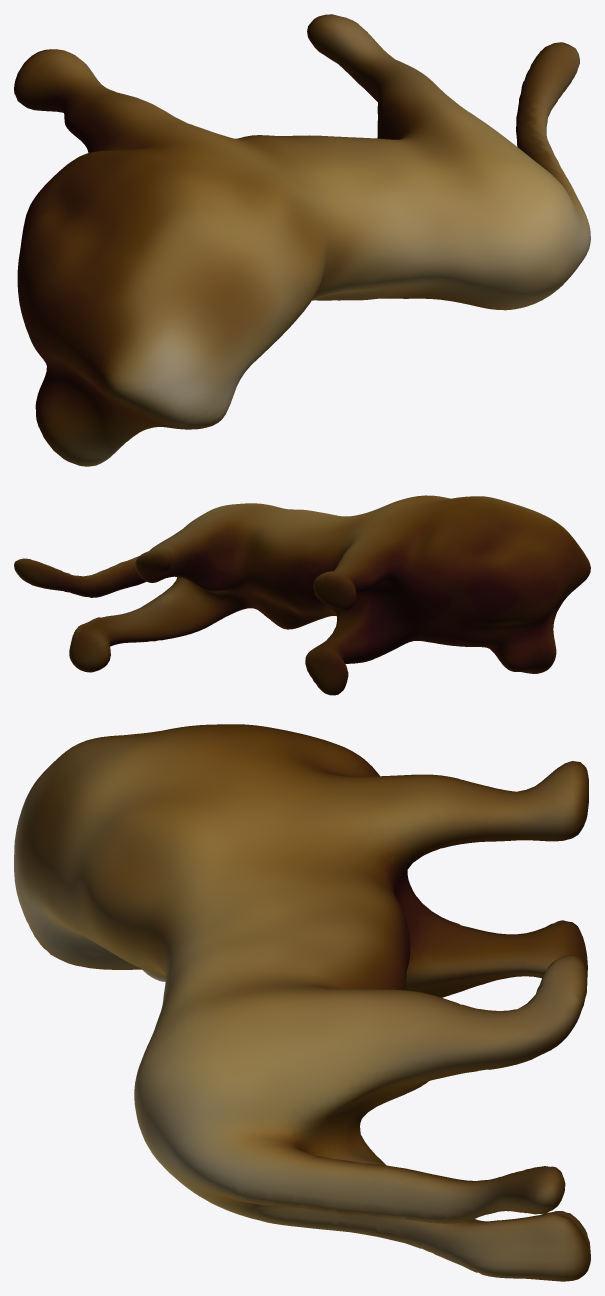
Rendered from lion.glb.
The picture shows the model from 3 angles, top to bottom: view 1: azimuth 30°, elevation 25°; view 2: azimuth 150°, elevation 25°; view 3: azimuth 270°, elevation 25°; orthographic projection. The views are drawn at different scales.
Size of the model in its own units: 0.998 by 0.353 by 0.6179.
